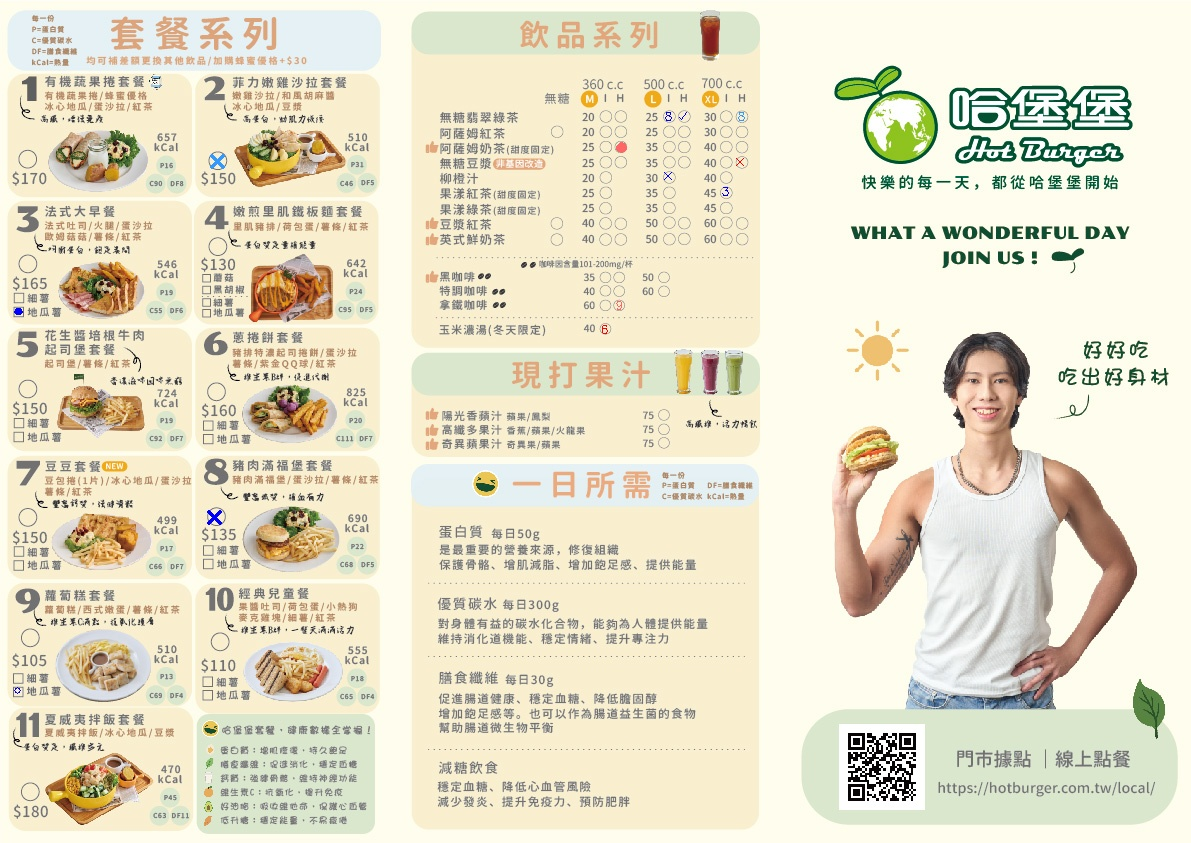marked_item: (205, 507, 224, 527), (208, 151, 227, 171), (598, 323, 610, 335), (719, 185, 731, 197), (662, 110, 674, 122), (662, 170, 674, 182), (677, 110, 689, 122), (614, 140, 626, 152), (735, 110, 747, 122), (734, 156, 746, 168), (613, 299, 625, 311), (12, 306, 23, 314), (12, 686, 23, 694)
